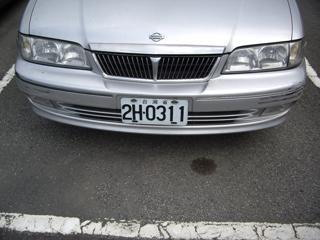plate: (119, 95, 190, 128)
